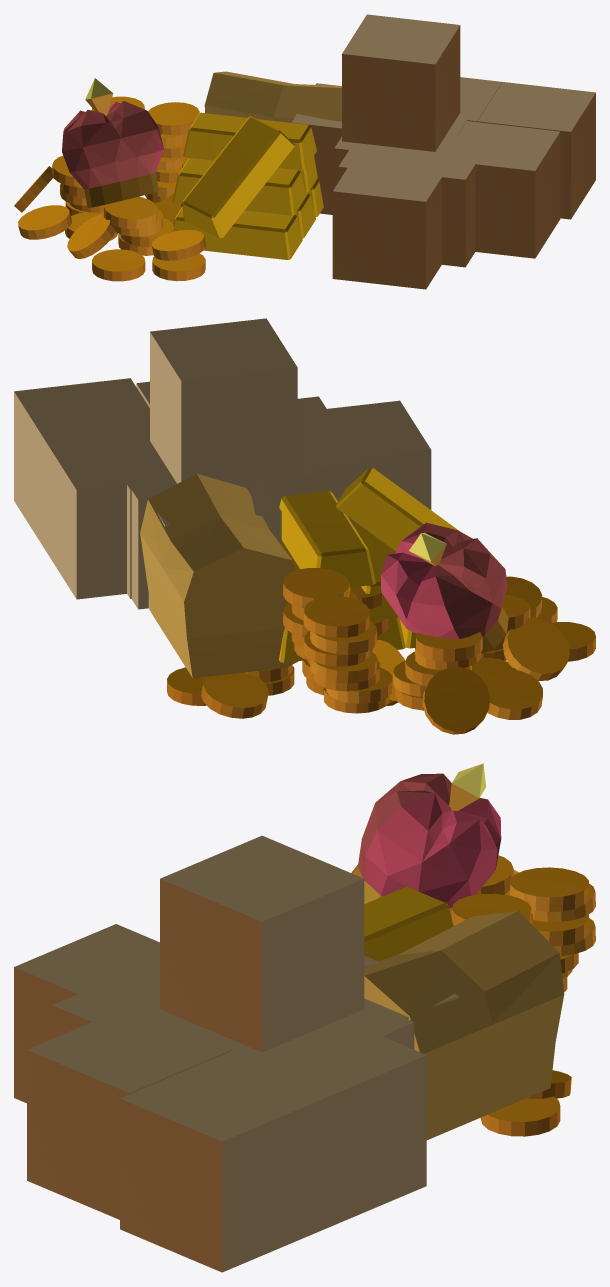
File: castle05.fbx
The picture shows the model from 3 angles, top to bottom: view 1: azimuth 30°, elevation 25°; view 2: azimuth 150°, elevation 25°; view 3: azimuth 270°, elevation 25°; orthographic projection. The views are drawn at different scales.
Visible parts, largest first — view 1: castle05; view 2: castle05; view 3: castle05.
Boxes of the visible parts, <box> form: castle05: <box>14,14,595,289</box>; castle05: <box>14,318,595,734</box>; castle05: <box>14,763,595,1272</box>.
Size of the model in its own units: 5.35 by 2.03 by 3.63.
1 material, 1 textured.
